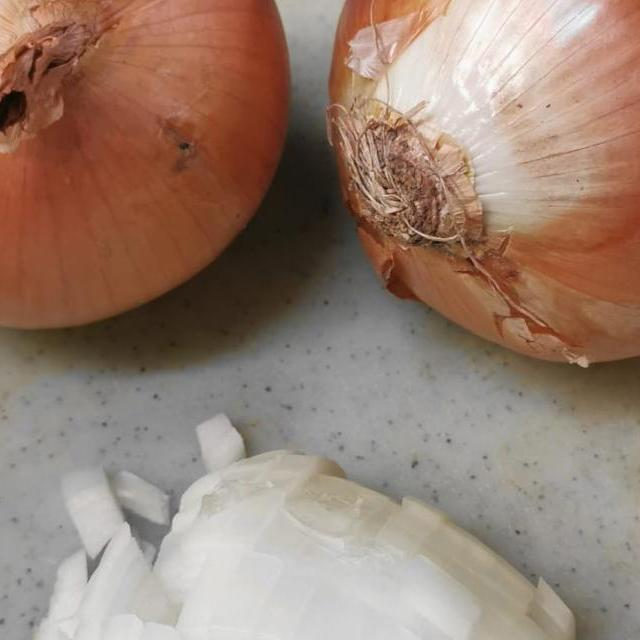onion: (0, 392, 640, 640), (306, 0, 640, 375), (0, 0, 294, 342)
